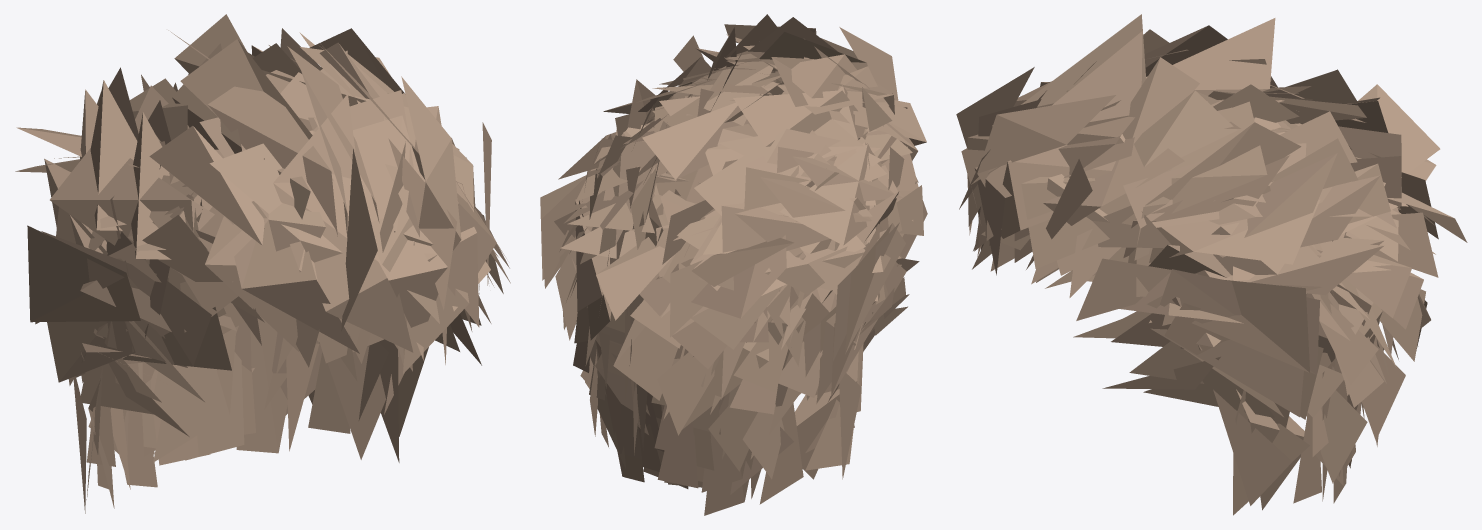
File: male_hair_14_lod2.glb
3 views of the same model, side by side, from view 1: azimuth 30°, elevation 25°; view 2: azimuth 150°, elevation 25°; view 3: azimuth 270°, elevation 25° (orthographic). The views are drawn at different scales.
Parts seen in each view (by area): view 1: hair_14; view 2: hair_14; view 3: hair_14.
Part boxes in pixels (x1,y1,x2,y2): hair_14: [15, 14, 510, 513]; hair_14: [540, 14, 927, 515]; hair_14: [956, 14, 1467, 515].
Bounding box in the file's own units: 0.167 × 0.2187 × 0.2207.
